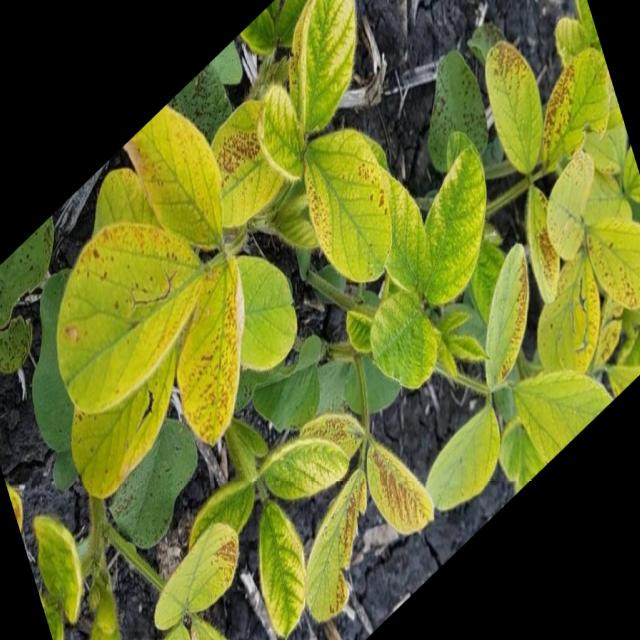Chlorosis: (4, 27, 624, 521)
